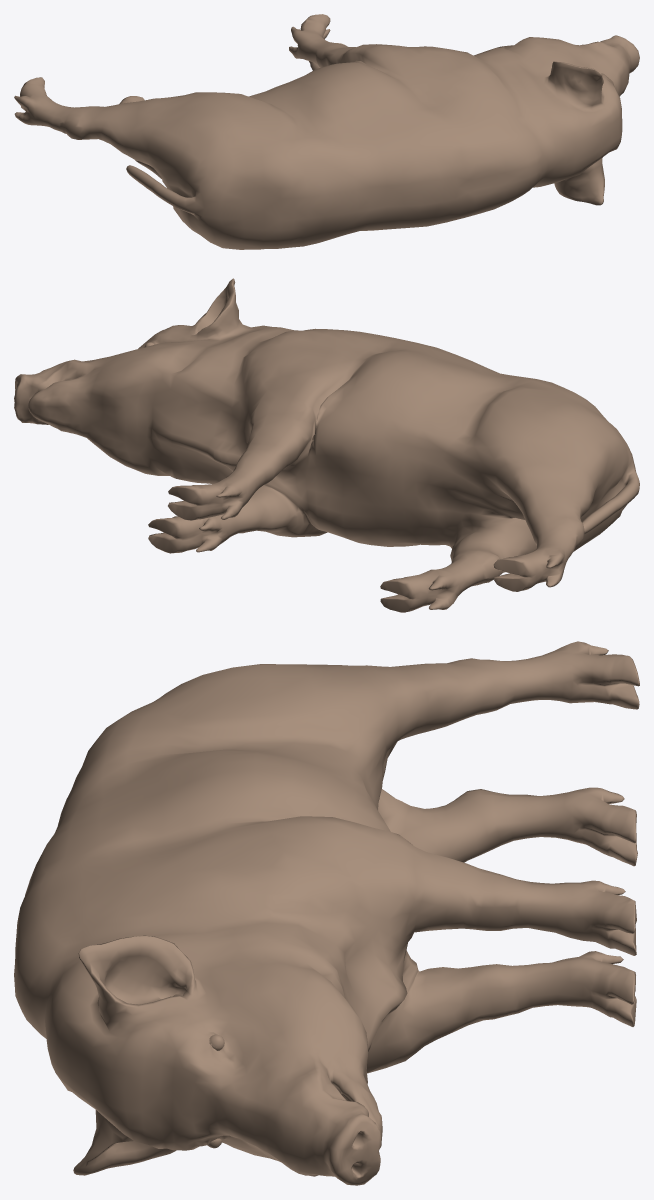
Rendered from pack_boar_game.glb.
3 views of the same model, one above another, from view 1: azimuth 30°, elevation 25°; view 2: azimuth 150°, elevation 25°; view 3: azimuth 270°, elevation 25° (orthographic). The views are drawn at different scales.
Parts seen in each view (by area): view 1: Boar_Lower.001_applied_clean_M_Boar_0; view 2: Boar_Lower.001_applied_clean_M_Boar_0; view 3: Boar_Lower.001_applied_clean_M_Boar_0.
Part boxes in pixels (box(x1,y1,x2,y2)): Boar_Lower.001_applied_clean_M_Boar_0: box(14, 14, 639, 249); Boar_Lower.001_applied_clean_M_Boar_0: box(14, 278, 639, 612); Boar_Lower.001_applied_clean_M_Boar_0: box(14, 641, 639, 1185).
Size of the model in its own units: 191 by 50.7 by 111.
